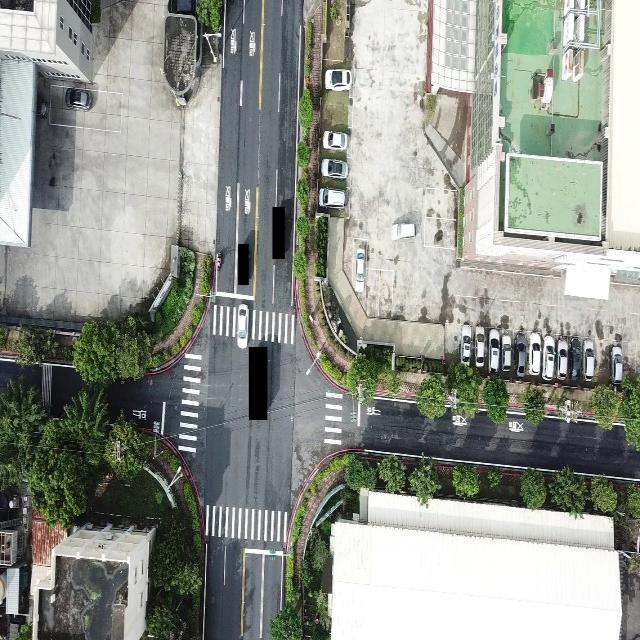car: (318, 185, 350, 211), (234, 300, 250, 348), (542, 333, 558, 380), (319, 156, 350, 180), (608, 342, 624, 386), (324, 67, 352, 91), (322, 128, 350, 151), (514, 332, 528, 377), (569, 337, 583, 382), (354, 241, 366, 293), (582, 337, 596, 381), (65, 88, 92, 110), (528, 332, 541, 376), (489, 328, 502, 372), (391, 219, 417, 241), (475, 321, 486, 371), (502, 328, 513, 374), (460, 322, 472, 364), (558, 336, 568, 381)
